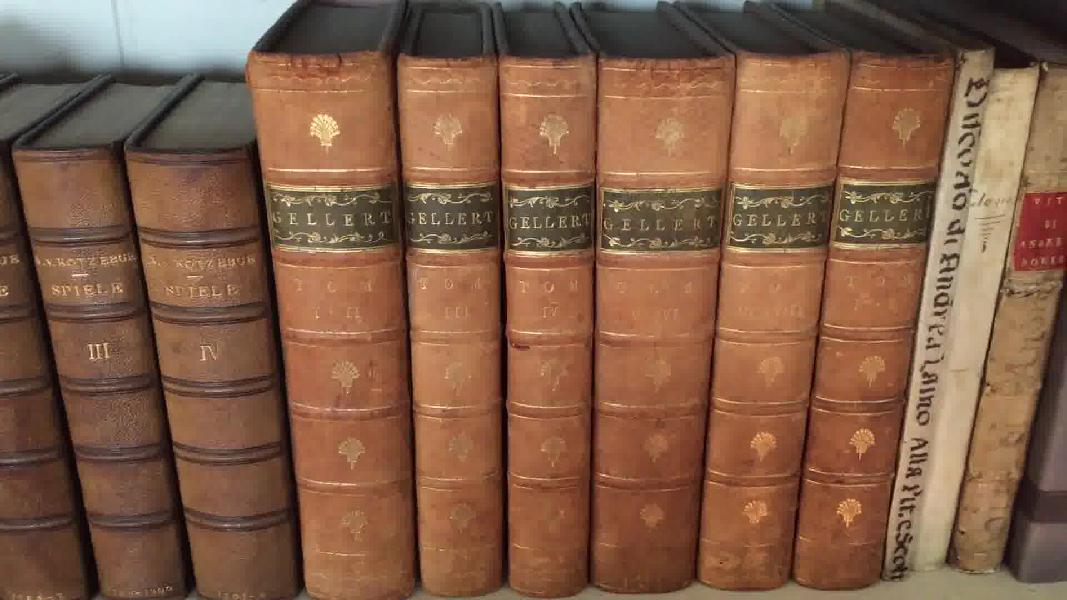Aa6-18_23: (238, 34, 949, 600)
Aa6-24: (878, 28, 988, 600)
Aa6-25: (908, 55, 1036, 600)
Aa6-26: (943, 19, 1062, 600)
